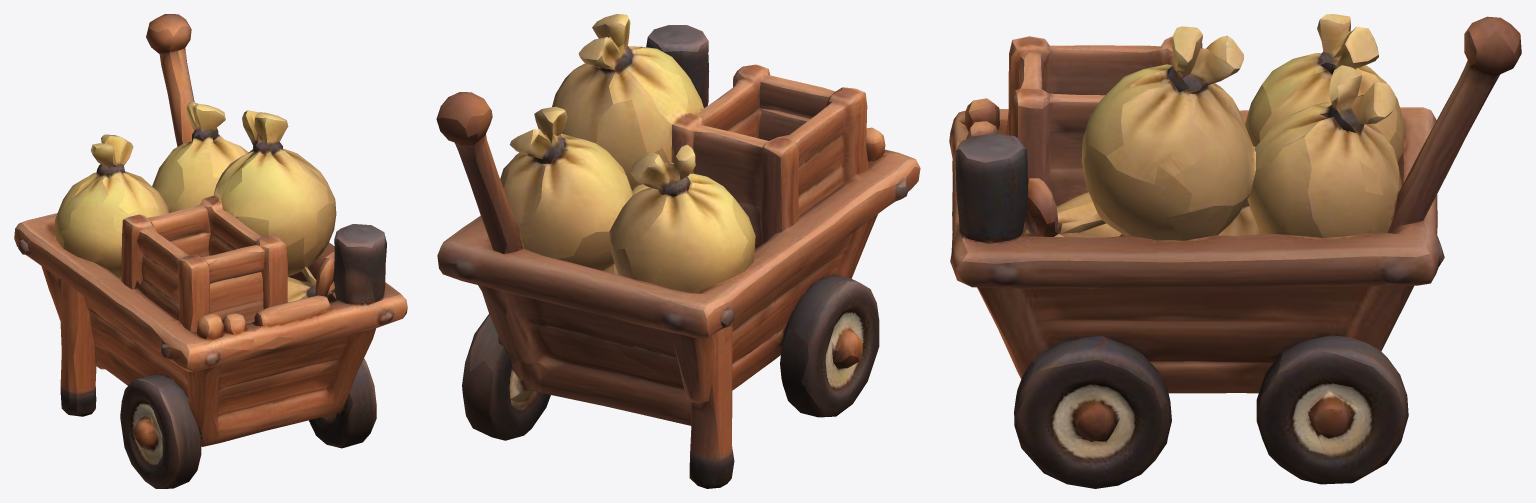
File: sz-supply-cart.glb
The picture shows the model from 3 angles, left to right: view 1: azimuth 30°, elevation 25°; view 2: azimuth 150°, elevation 25°; view 3: azimuth 270°, elevation 25°; orthographic projection. The views are drawn at different scales.
Visible parts, largest first — view 1: geometry_0; view 2: geometry_0; view 3: geometry_0.
Part boxes in pixels (x1=…): geometry_0: x1=14, y1=14, x2=407, y2=488; geometry_0: x1=436, y1=14, x2=920, y2=488; geometry_0: x1=949, y1=14, x2=1521, y2=488.
Size of the model in its own units: 0.65 by 0.8635 by 1.
Materials: 1 (1 with a texture image).
